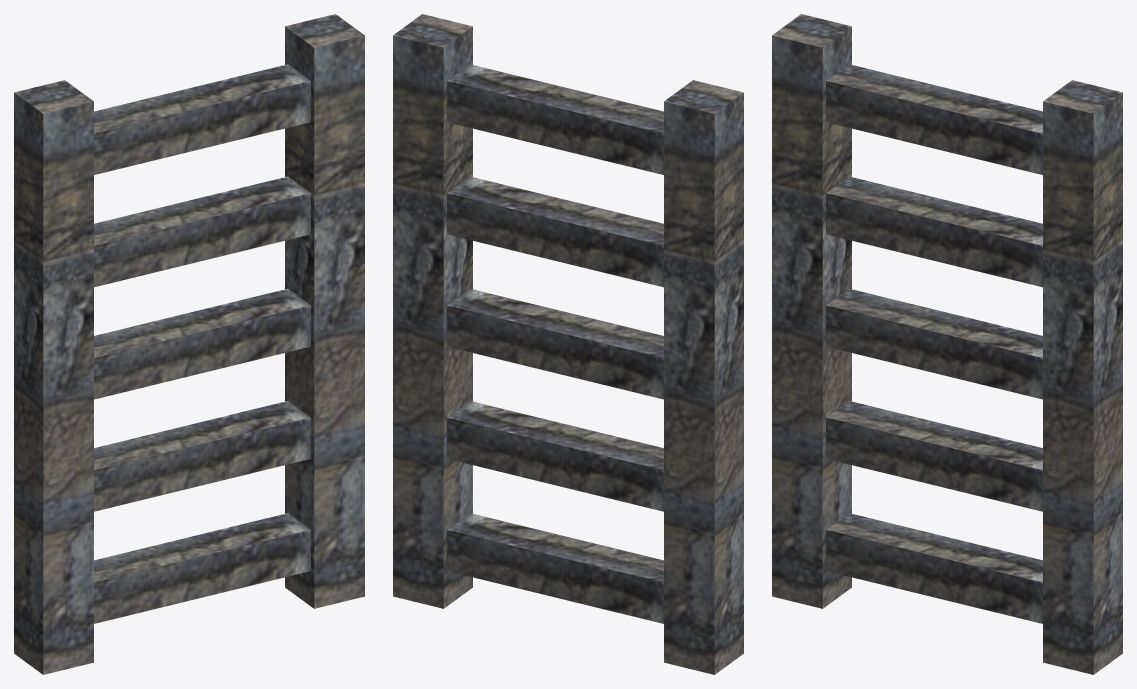
The model's file is ladder_brick.glb.
The picture shows the model from 3 angles, left to right: view 1: azimuth 30°, elevation 25°; view 2: azimuth 150°, elevation 25°; view 3: azimuth 330°, elevation 25°; orthographic projection.
Parts seen in each view (by area): view 1: ladder; view 2: ladder; view 3: ladder.
Part boxes in pixels (<box>): ladder: <box>14,14,364,674</box>; ladder: <box>393,14,743,674</box>; ladder: <box>772,14,1122,674</box>.
Bounding box in the file's own units: 0.57 × 0.95 × 0.09.
Materials: 1 (1 with a texture image).
